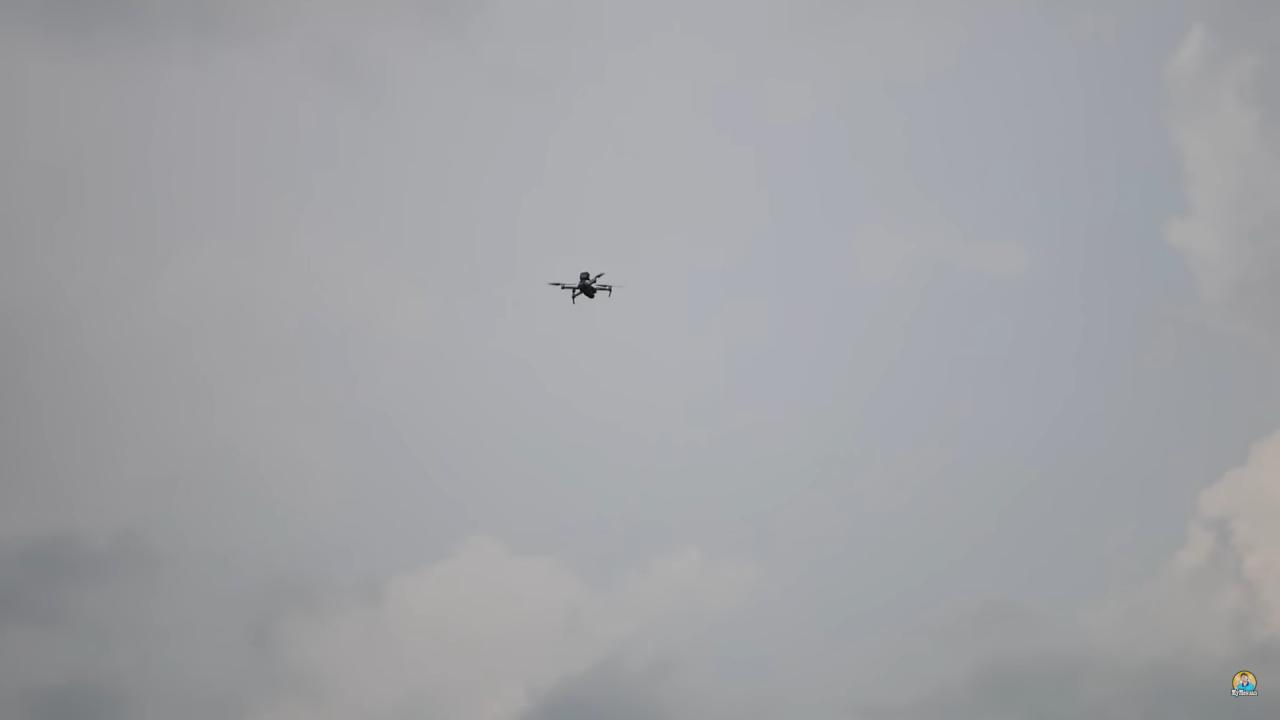Drone: (539, 258, 630, 314)
